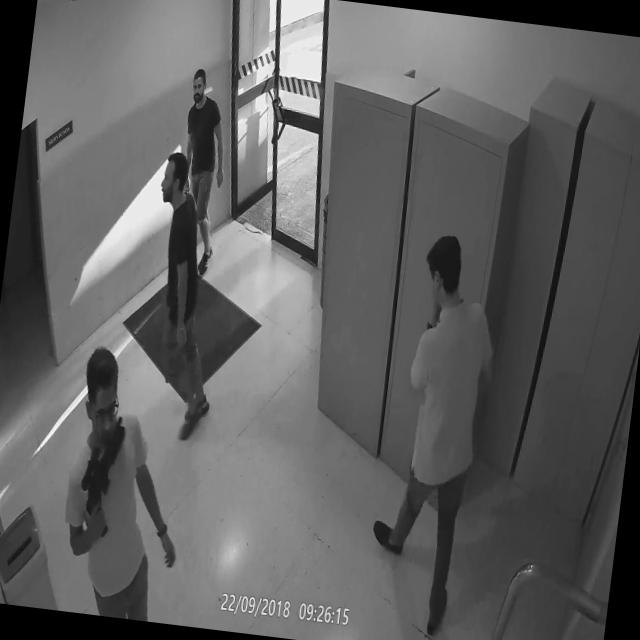gun: (74, 408, 128, 541)
person: (375, 224, 509, 640), (127, 148, 242, 448), (165, 62, 239, 279)
person with a gun: (52, 336, 185, 622)
